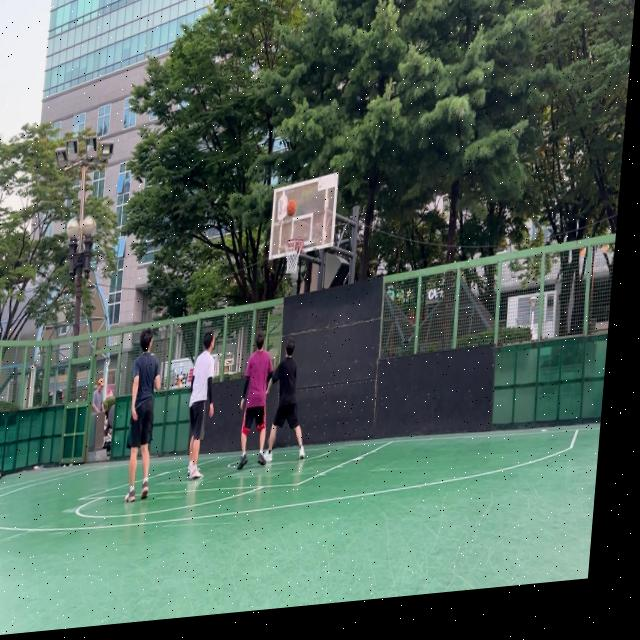basketball: (286, 199, 297, 216)
hoop: (281, 238, 304, 275)
